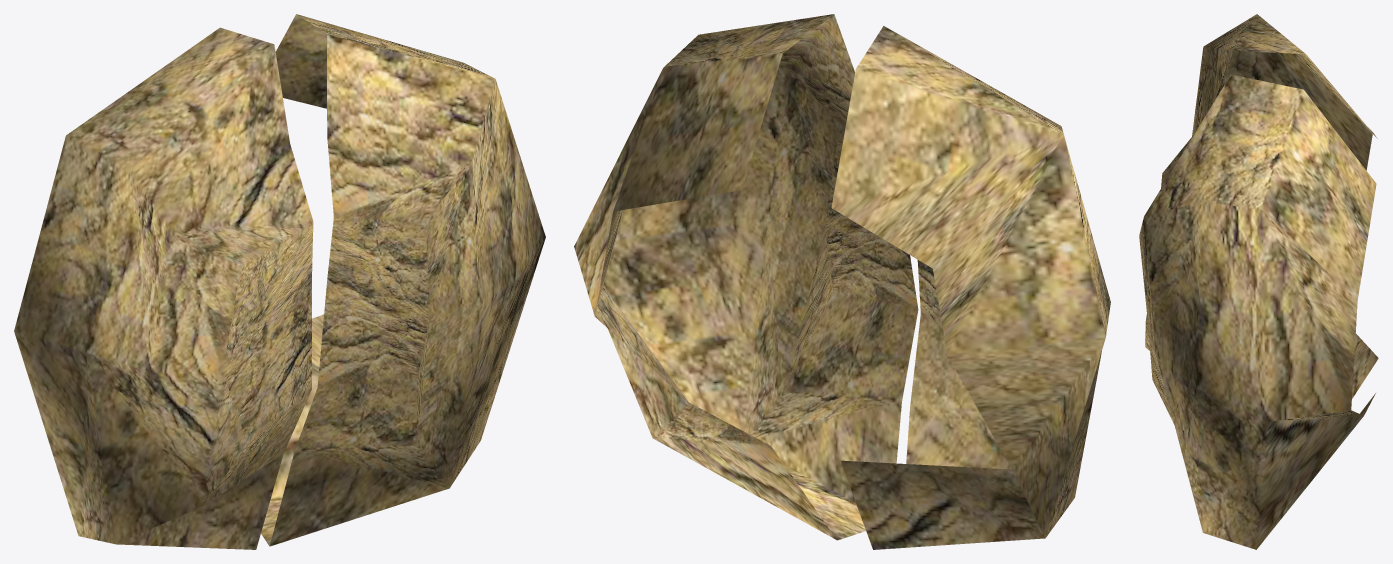
File: stone_000010.obj
3 views of the same model, side by side, from view 1: azimuth 30°, elevation 25°; view 2: azimuth 150°, elevation 25°; view 3: azimuth 270°, elevation 25° (orthographic). The views are drawn at different scales.
Visible parts, largest first — view 1: Cube, Cube.001; view 2: Cube.001, Cube; view 3: Cube.001, Cube.
Part boxes in pixels (x1=…): Cube: x1=14, y1=27, x2=313, y2=549; Cube.001: x1=261, y1=14, x2=545, y2=546; Cube.001: x1=574, y1=14, x2=918, y2=540; Cube: x1=831, y1=26, x2=1110, y2=549; Cube.001: x1=1139, y1=74, x2=1376, y2=549; Cube: x1=1145, y1=14, x2=1378, y2=398.
Size of the model in its own units: 7.34 by 6.59 by 3.24.
